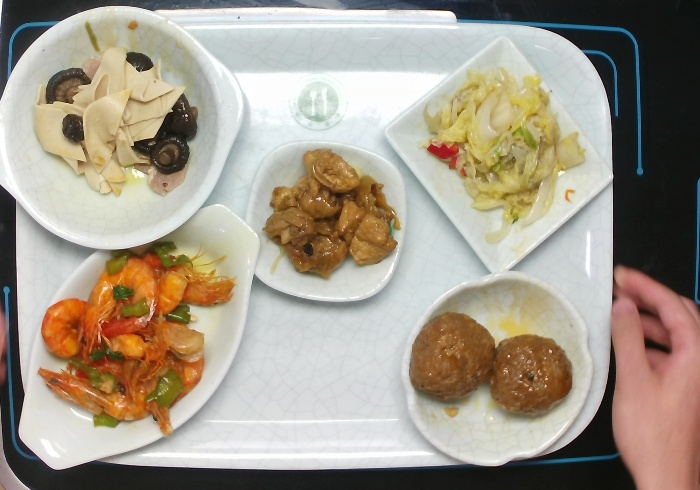JYsf-Ao_Yuan_Wan: (399, 262, 598, 472)
JYsf-Shuang_Er_Wan: (1, 2, 248, 253)
JYsf-Si_Fang_Die: (245, 137, 407, 307)
JYsf-Yu_Pan: (19, 203, 265, 470)
WCQzf-Ru_Ci_Si_Fang_Die: (381, 33, 614, 282)
